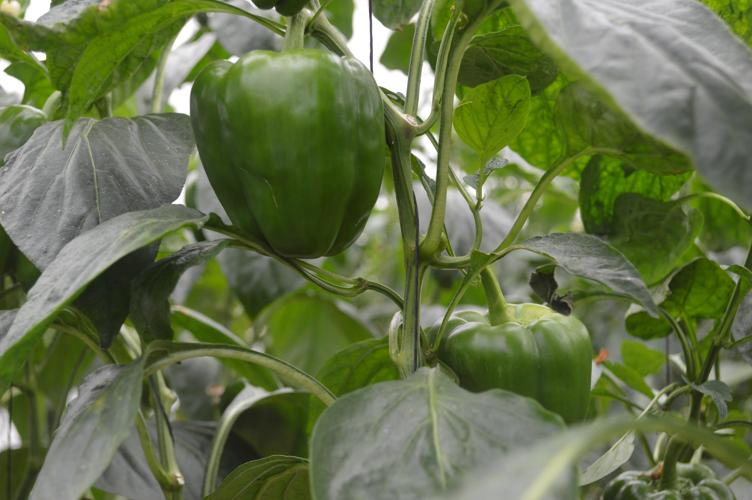BellPepper: (187, 48, 391, 282), (418, 280, 601, 455)
